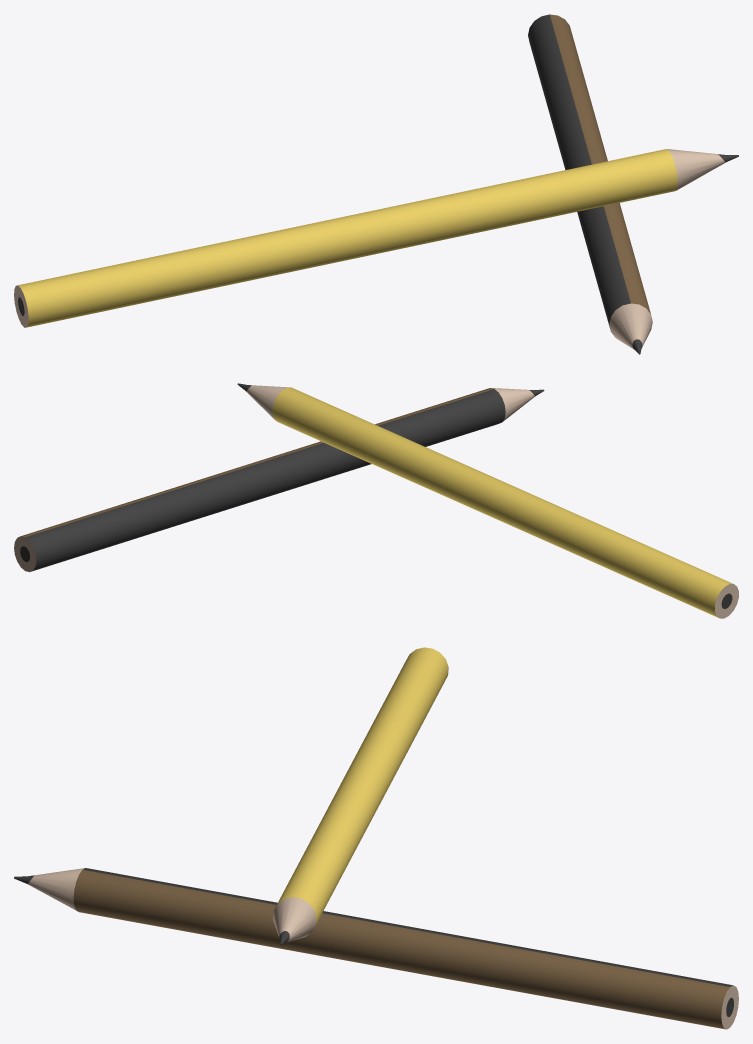
The model's file is pencil-stack.fbx.
3 views of the same model, one above another, from view 1: azimuth 30°, elevation 25°; view 2: azimuth 150°, elevation 25°; view 3: azimuth 270°, elevation 25° (orthographic). The views are drawn at different scales.
Visible parts, largest first — view 1: pencil, pencil.001; view 2: pencil, pencil.001; view 3: pencil.001, pencil.
Part boxes in pixels (left/top/right/bottom): pencil: left=14, top=149, right=738, bottom=327; pencil.001: left=528, top=14, right=652, bottom=354; pencil: left=237, top=383, right=738, bottom=618; pencil.001: left=14, top=388, right=544, bottom=572; pencil.001: left=14, top=868, right=738, bottom=1029; pencil: left=273, top=647, right=448, bottom=945.
Bounding box in the file's own units: 310 × 34.77 × 273.
